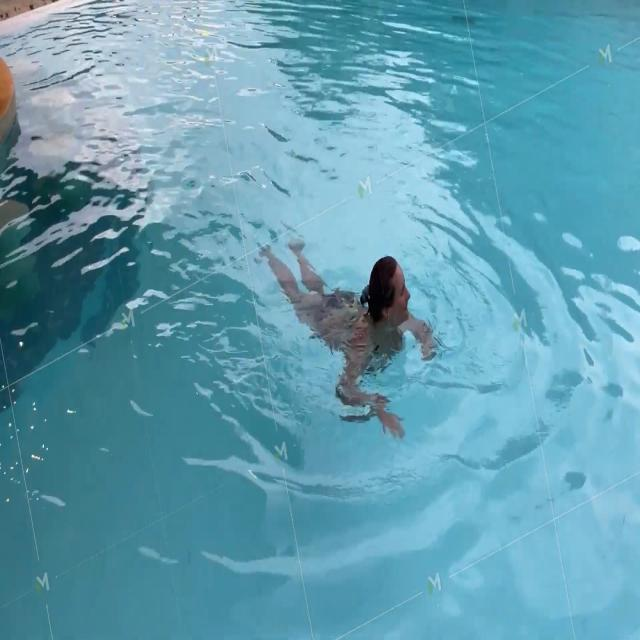Swimming: (250, 225, 441, 443)
